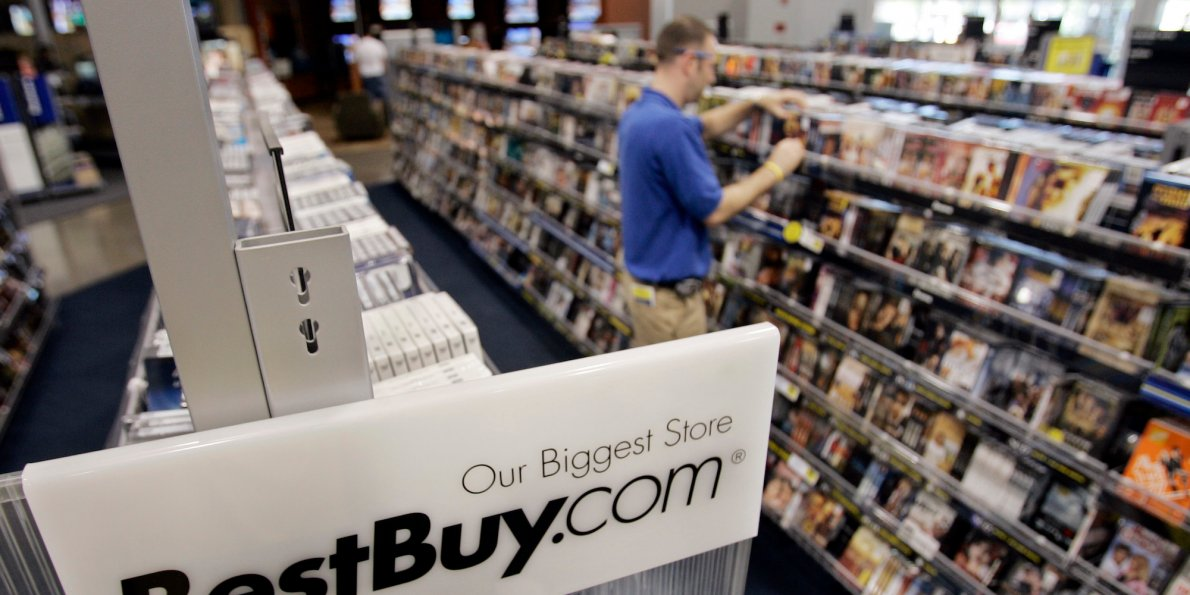Age_30_40: (656, 19, 733, 101)
E_White: (656, 19, 733, 101)
Emotion_Neutral: (656, 19, 733, 101)
G_Male: (656, 19, 733, 101)
